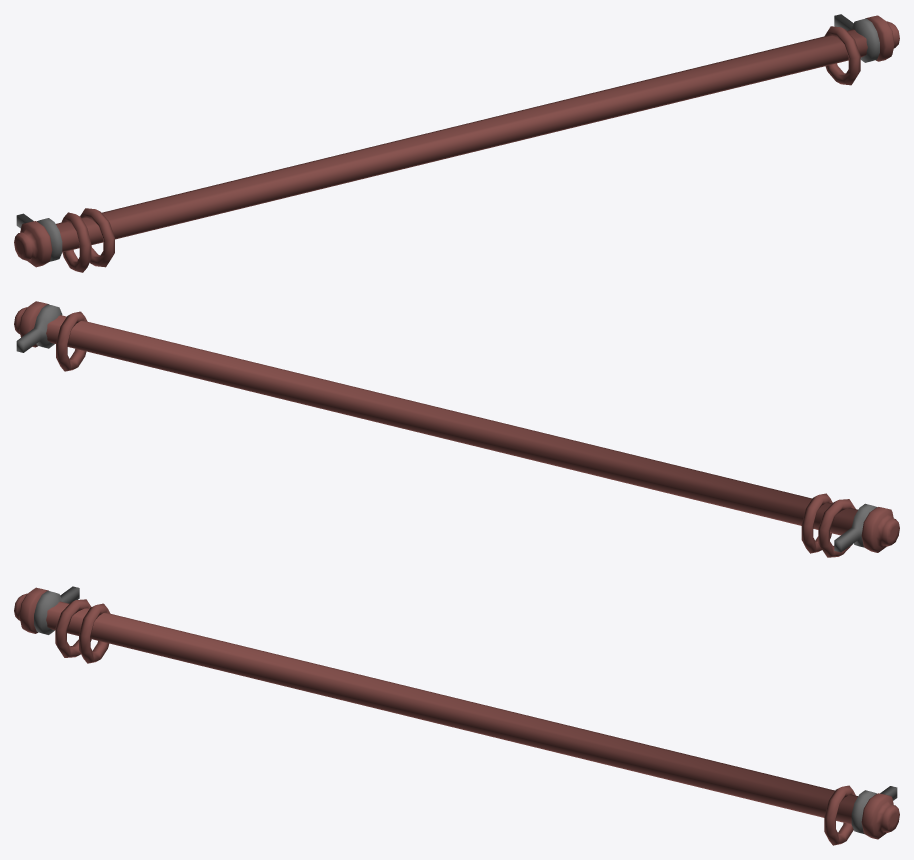
The model's file is CurtainRod.glb.
3 views of the same model, one above another, from view 1: azimuth 30°, elevation 25°; view 2: azimuth 150°, elevation 25°; view 3: azimuth 330°, elevation 25° (orthographic).
Visible parts, largest first — view 1: Rod_01, Rod_Attach, Rod_04, Rod_02, Rod_03; view 2: Rod_01, Rod_Attach, Rod_04, Rod_02, Rod_03; view 3: Rod_01, Rod_Attach, Rod_03, Rod_04, Rod_02.
Boxes of the visible parts, left/top/right/bottom form: Rod_01: left=14, top=15, right=899, bottom=267; Rod_Attach: left=16, top=14, right=879, bottom=261; Rod_04: left=825, top=26, right=860, bottom=85; Rod_02: left=61, top=212, right=91, bottom=272; Rod_03: left=80, top=208, right=114, bottom=267; Rod_01: left=14, top=301, right=899, bottom=552; Rod_Attach: left=16, top=304, right=876, bottom=552; Rod_04: left=56, top=311, right=87, bottom=371; Rod_02: left=818, top=499, right=855, bottom=557; Rod_03: left=801, top=493, right=832, bottom=553; Rod_01: left=14, top=587, right=899, bottom=839; Rod_Attach: left=34, top=586, right=897, bottom=834; Rod_03: left=79, top=603, right=110, bottom=663; Rod_04: left=824, top=785, right=855, bottom=845; Rod_02: left=55, top=599, right=91, bottom=657.
Size of the model in its own units: 1.42 by 0.0885 by 0.1209.
